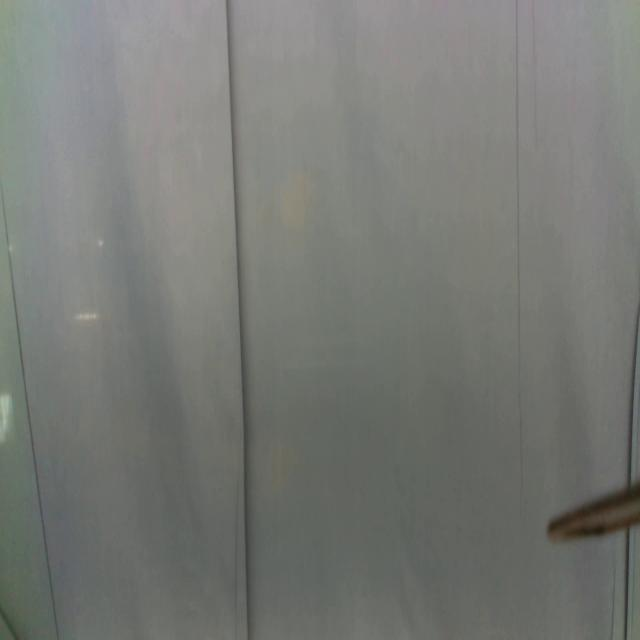color bleeding: (277, 167, 316, 232)
crease: (1, 179, 59, 638), (224, 0, 250, 640), (511, 0, 525, 511), (626, 310, 640, 482), (530, 0, 539, 157)
